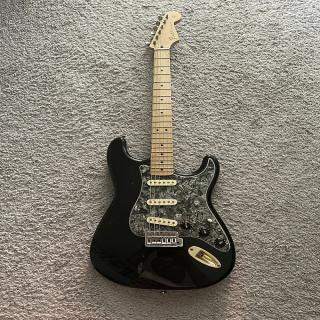Fender Stratocaster: (86, 10, 243, 295)
SSS: (143, 176, 186, 232)
